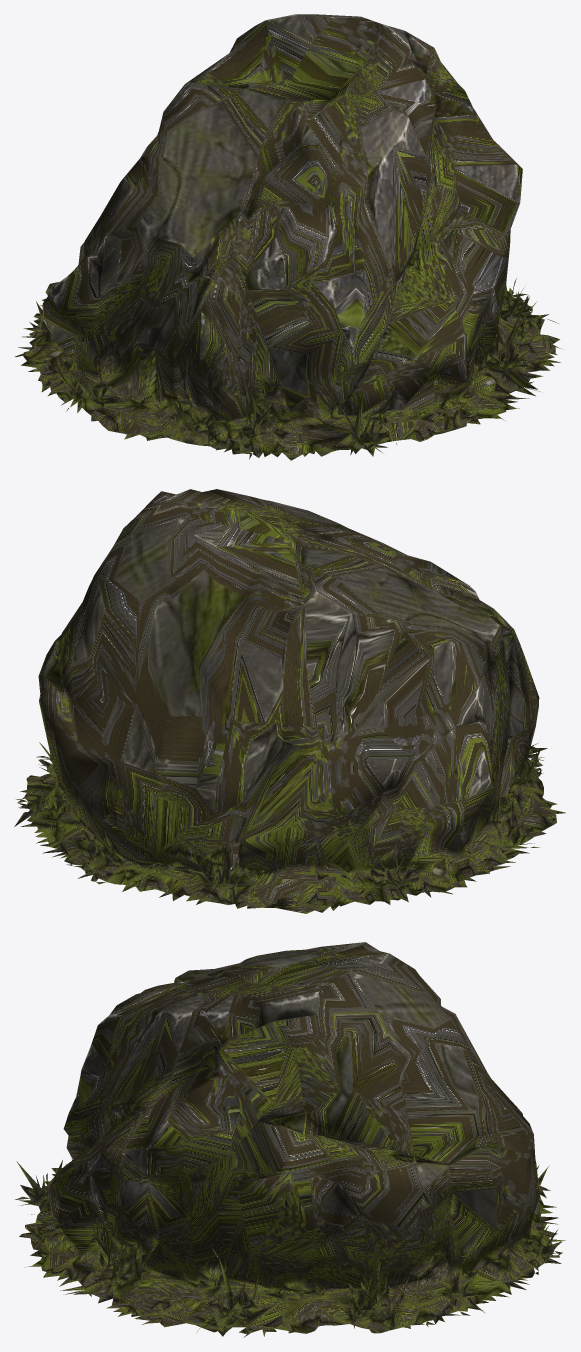
File: rock_big1_mid.glb
3 views of the same model, one above another, from view 1: azimuth 30°, elevation 25°; view 2: azimuth 150°, elevation 25°; view 3: azimuth 270°, elevation 25° (orthographic).
Bounding box in the file's own units: 1.85 × 1.09 × 1.89.
1 material, 1 textured.
